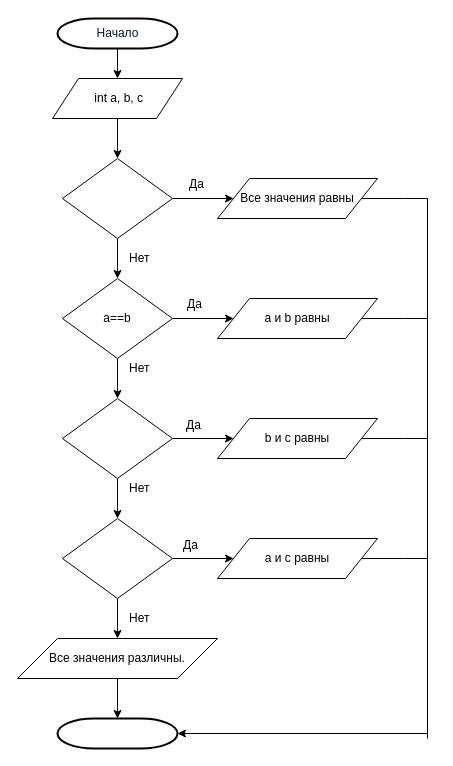
Some shapes in this 453 by 766 pixel diagram are drawn without their labels. Here are the shapes that lost their labels. From the top down, the centre of each, then its label:
pixel 117 198: a==b b==c
pixel 117 438: b==c
pixel 117 558: a==c
pixel 117 733: Конец
